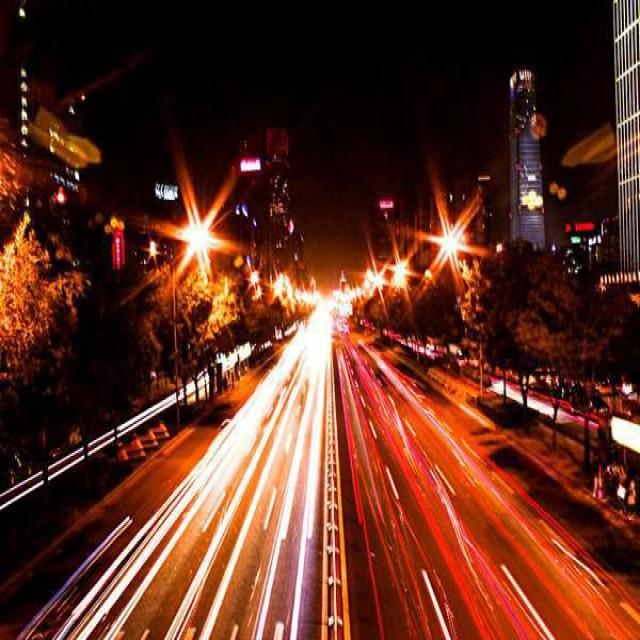other: (261, 264, 369, 330), (376, 246, 414, 304), (432, 212, 466, 275), (186, 220, 220, 282)
